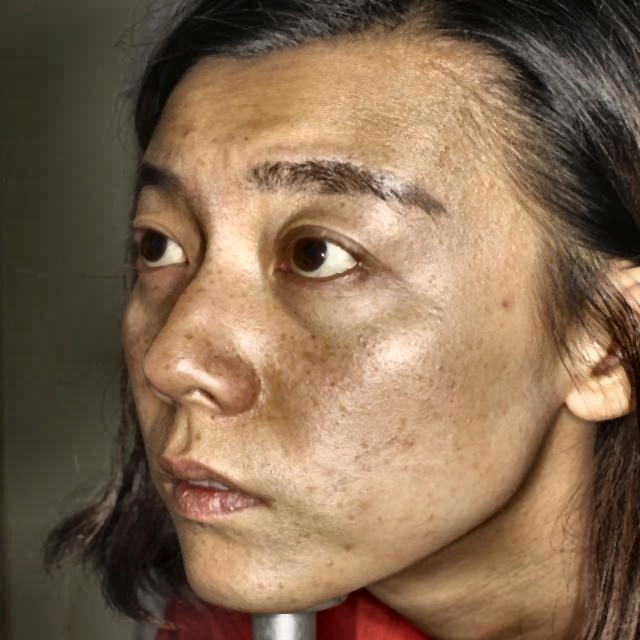comedone: (180, 130, 197, 143)
